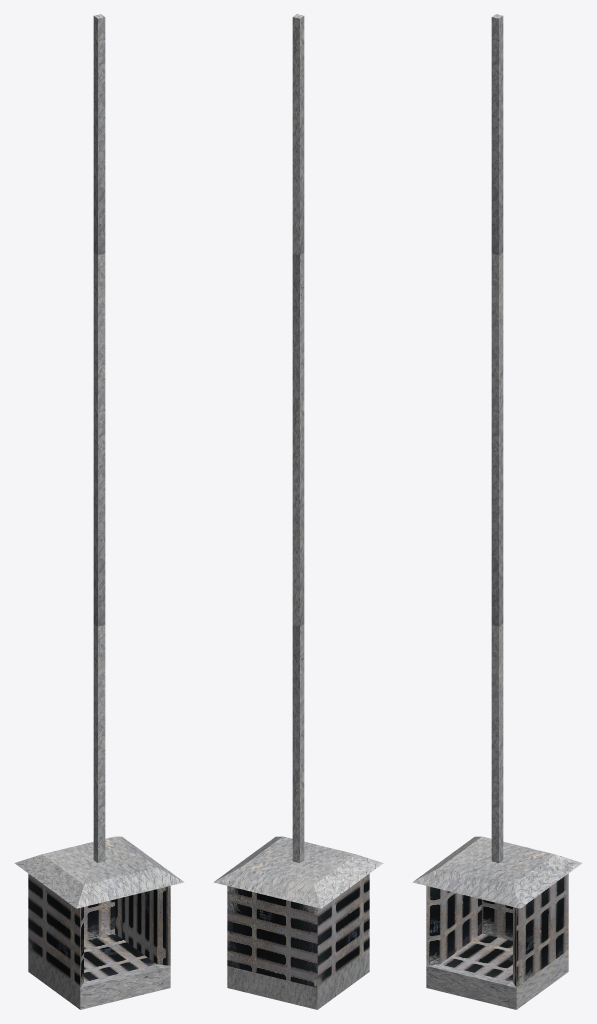
The model's file is elevator.obj.
3 renders of one model, left to right at view 1: azimuth 30°, elevation 25°; view 2: azimuth 150°, elevation 25°; view 3: azimuth 330°, elevation 25°, orthographic.
Parts seen in each view (by area): view 1: Cube.016_Cube.016_metal06, Cube.016_Cube.016_metal_grate; view 2: Cube.016_Cube.016_metal06, Cube.016_Cube.016_metal_grate; view 3: Cube.016_Cube.016_metal06, Cube.016_Cube.016_metal_grate.
Boxes of the visible parts, bbox=[...] form: Cube.016_Cube.016_metal06: bbox=[14, 14, 184, 1009]; Cube.016_Cube.016_metal_grate: bbox=[28, 873, 170, 987]; Cube.016_Cube.016_metal06: bbox=[213, 14, 383, 1009]; Cube.016_Cube.016_metal_grate: bbox=[227, 873, 369, 987]; Cube.016_Cube.016_metal06: bbox=[412, 14, 582, 1009]; Cube.016_Cube.016_metal_grate: bbox=[426, 873, 568, 987].
Size of the model in its own units: 4.77 by 40.66 by 4.77.
